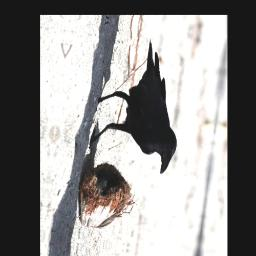Crow: (85, 32, 190, 176)
